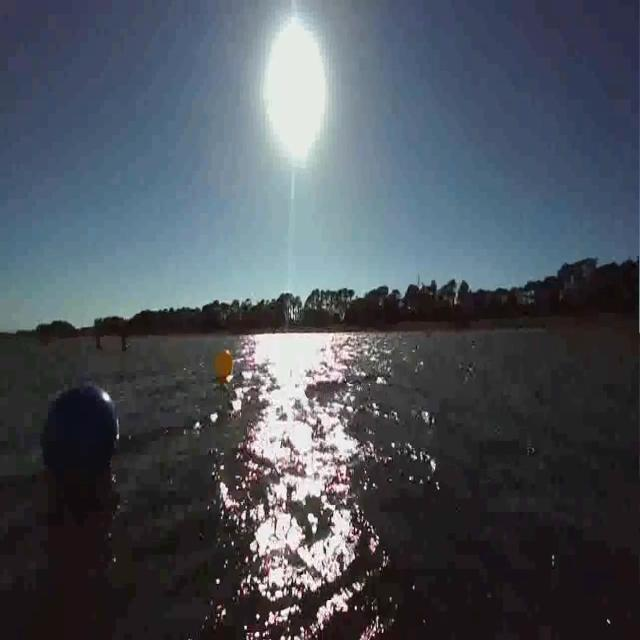blue-buoy: (39, 379, 121, 485)
yellow-buoy: (215, 348, 234, 378)
